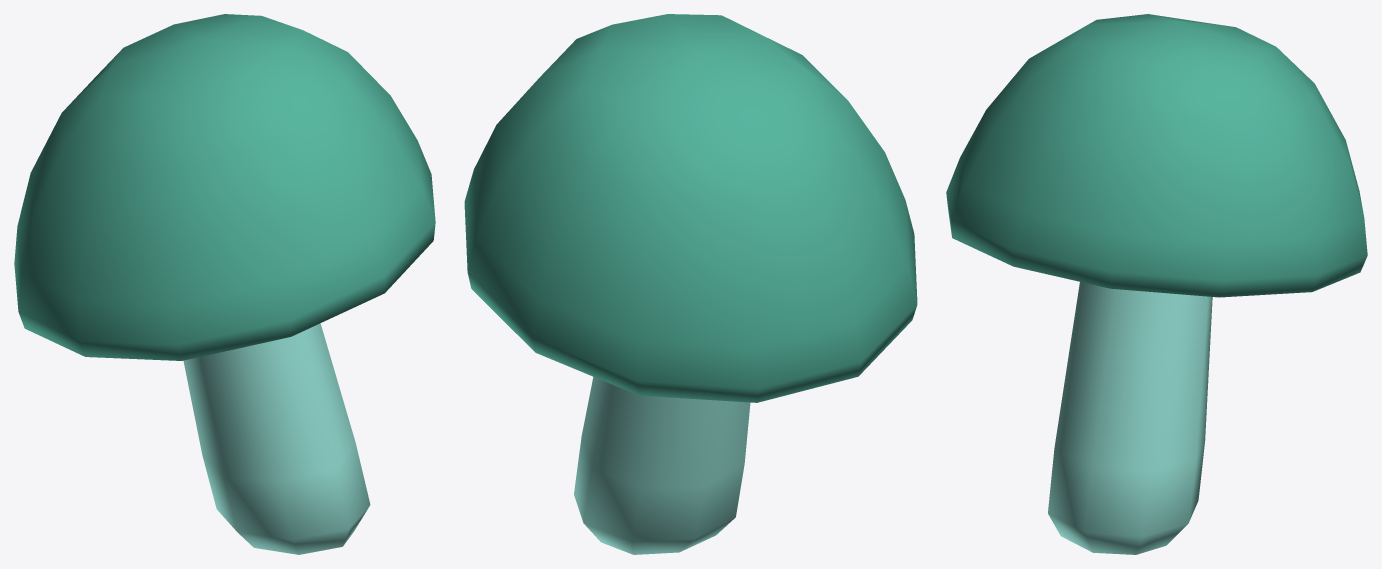
File: Shroom_B_02.fbx
3 views of the same model, side by side, from view 1: azimuth 30°, elevation 25°; view 2: azimuth 150°, elevation 25°; view 3: azimuth 270°, elevation 25° (orthographic). The views are drawn at different scales.
Visible parts, largest first — view 1: Shroom_B_02_LOD0; view 2: Shroom_B_02_LOD0; view 3: Shroom_B_02_LOD0.
Boxes of the visible parts, x1,y1,x2,y2 form: Shroom_B_02_LOD0: (14, 14, 435, 554); Shroom_B_02_LOD0: (464, 14, 917, 554); Shroom_B_02_LOD0: (946, 14, 1367, 554).
Size of what is drawn, in the model's own units: 179 by 230 by 181.
